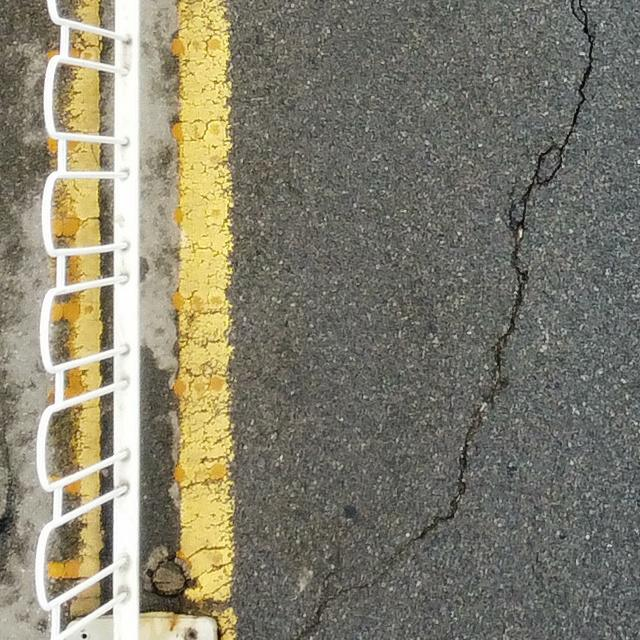LongitudinalCrack: (309, 1, 594, 636)
